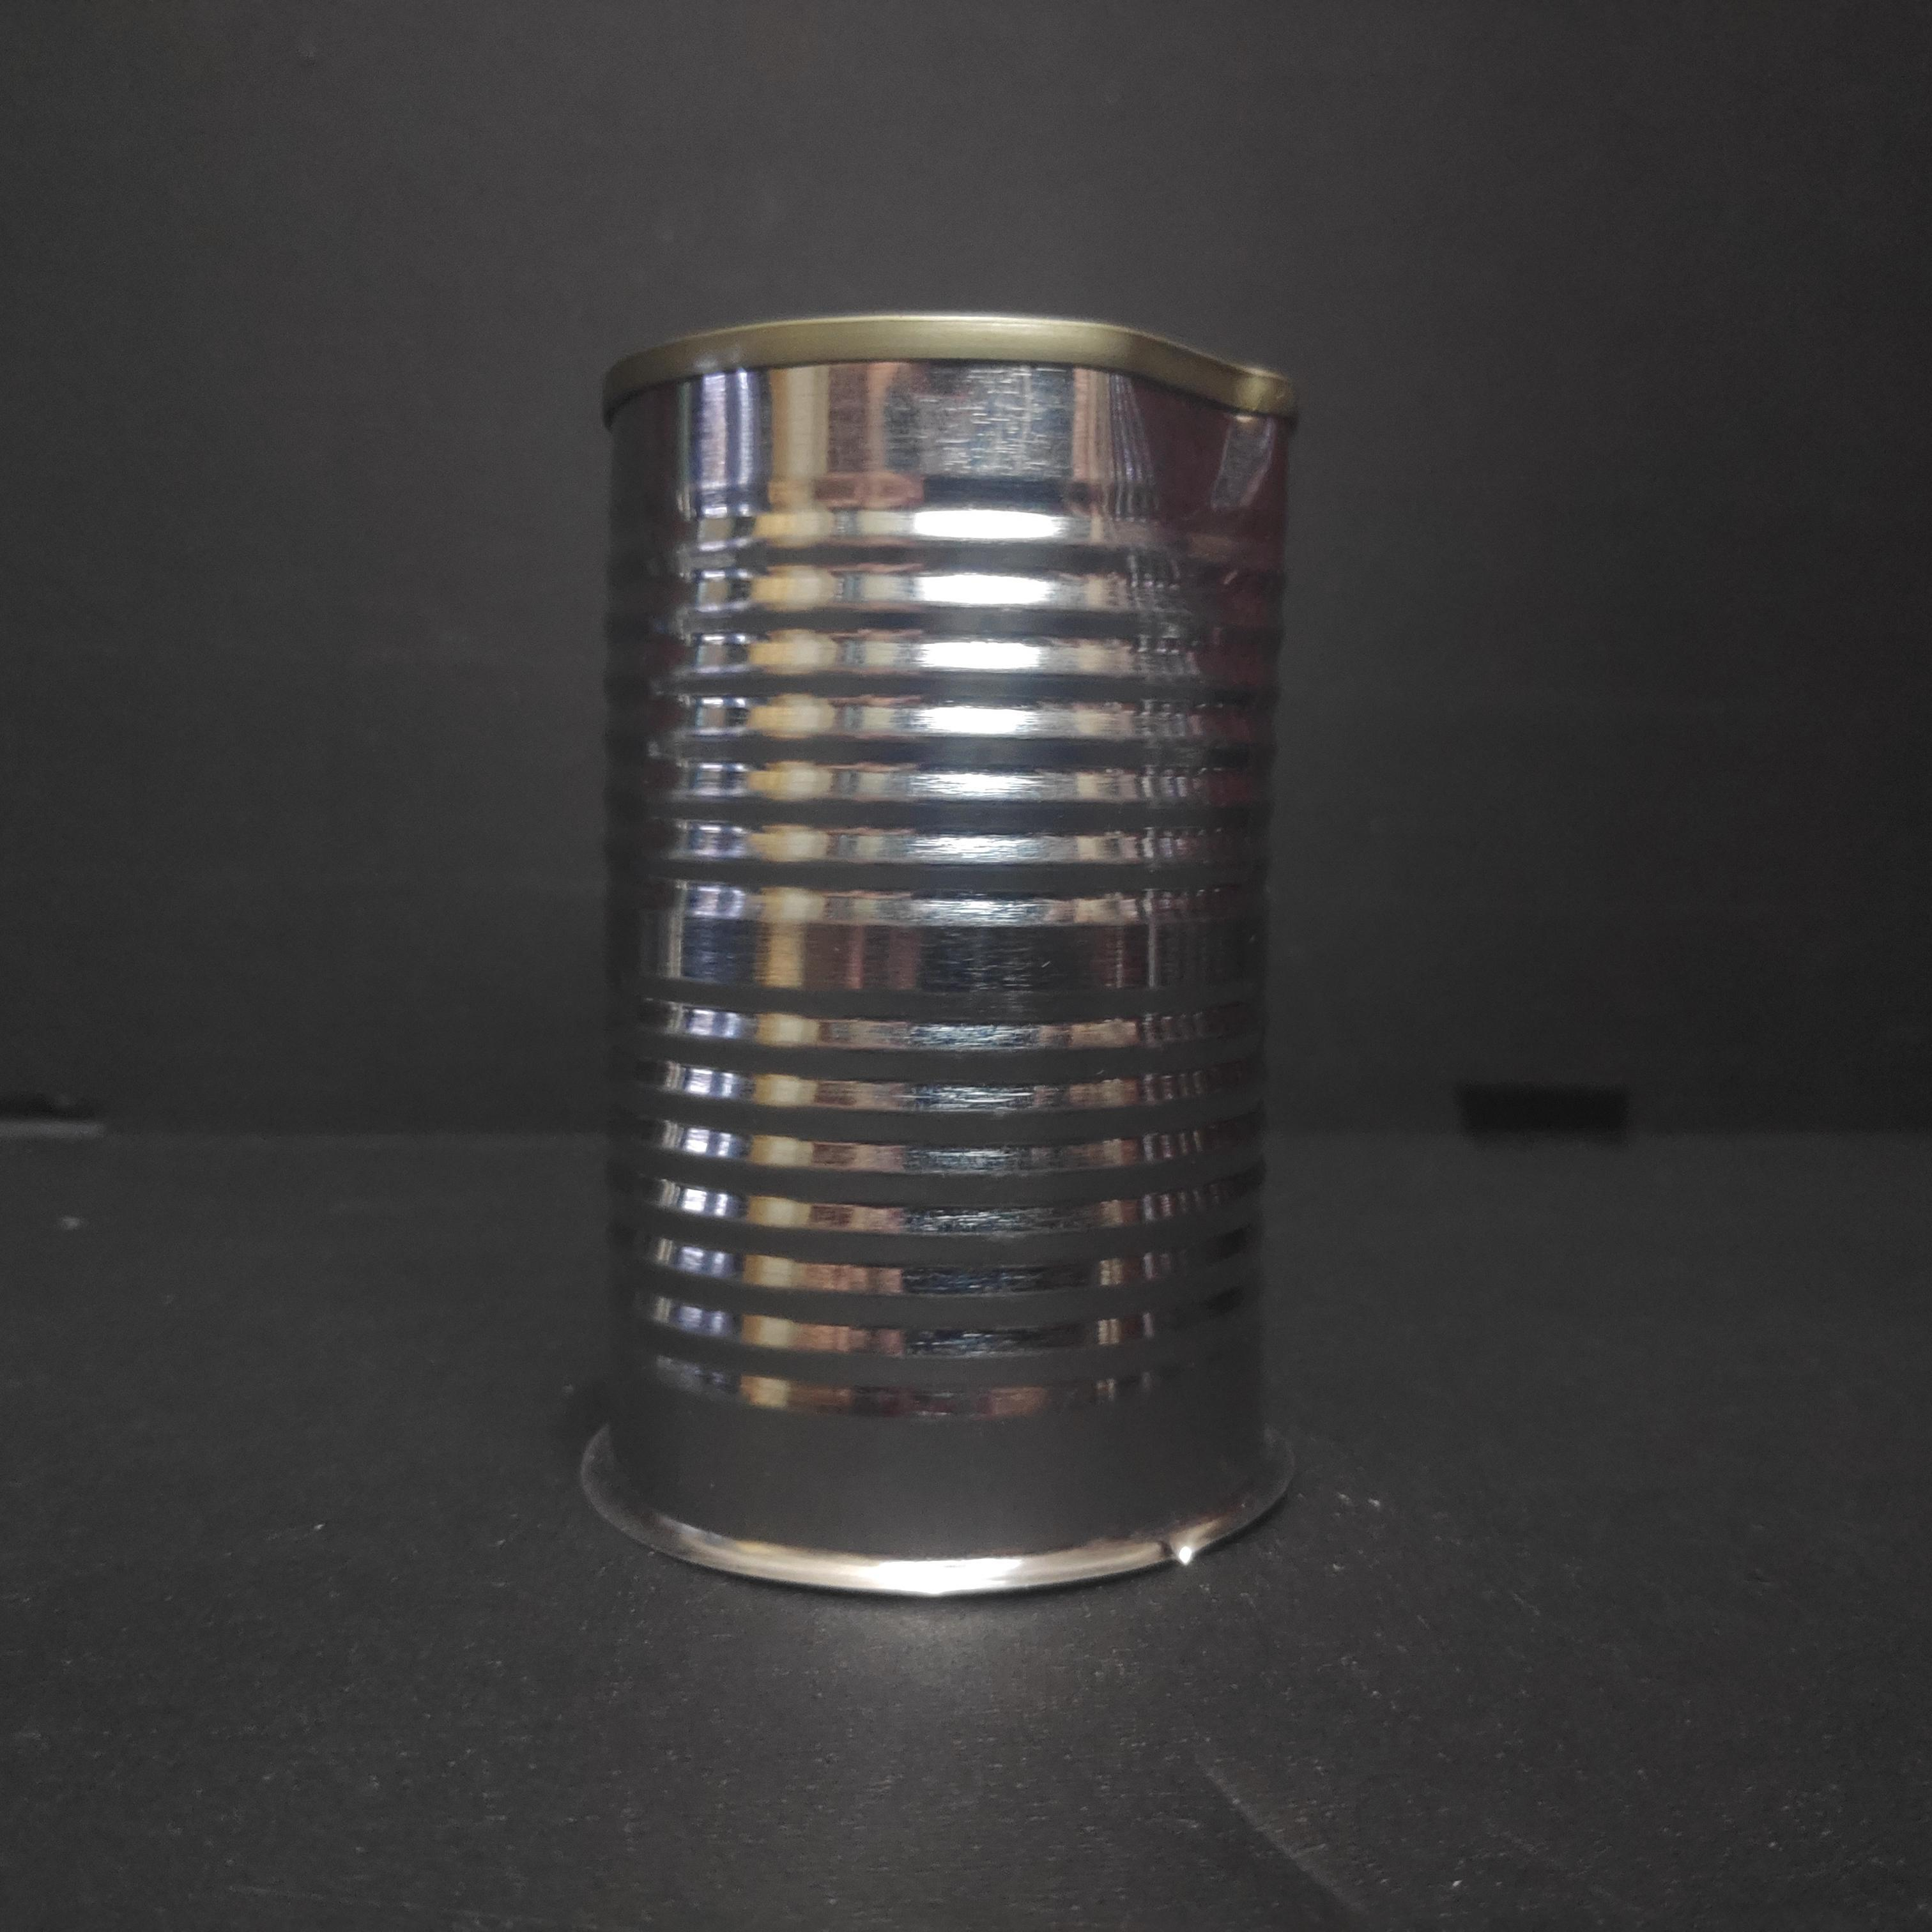Dented: (585, 297, 1326, 1604)
